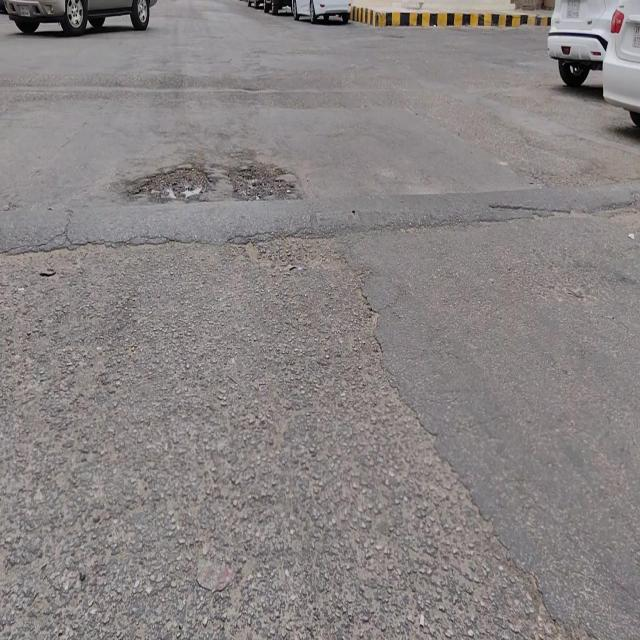Potholes: (133, 161, 211, 200), (226, 156, 295, 200)
